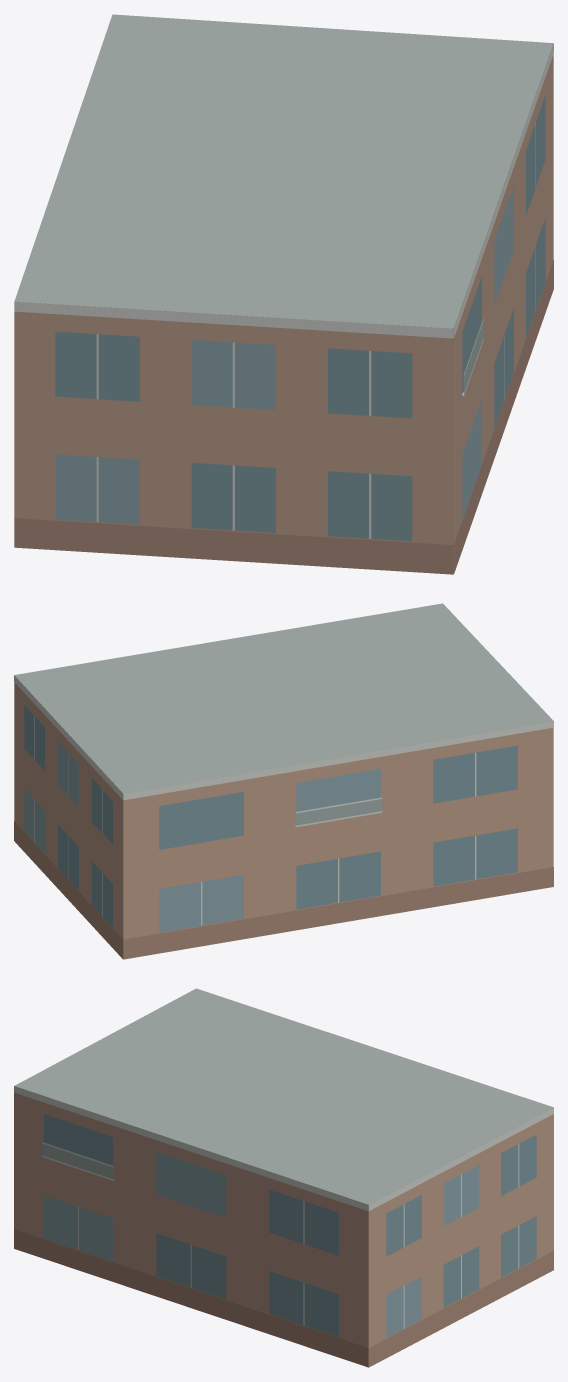
File: survey-upis-32842084.glb
3 views of the same model, one above another, from view 1: azimuth 30°, elevation 25°; view 2: azimuth 150°, elevation 25°; view 3: azimuth 270°, elevation 25° (orthographic). The views are drawn at different scales.
Parts seen in each view (by area): view 1: survey-upis-32842084.tmp; view 2: survey-upis-32842084.tmp; view 3: survey-upis-32842084.tmp.
Part boxes in pixels (left/top/right/bottom): survey-upis-32842084.tmp: left=14, top=14, right=553, bottom=574; survey-upis-32842084.tmp: left=14, top=603, right=553, bottom=959; survey-upis-32842084.tmp: left=14, top=988, right=553, bottom=1367.
Size of the model in its own units: 17.4 by 6.1 by 18.34.
